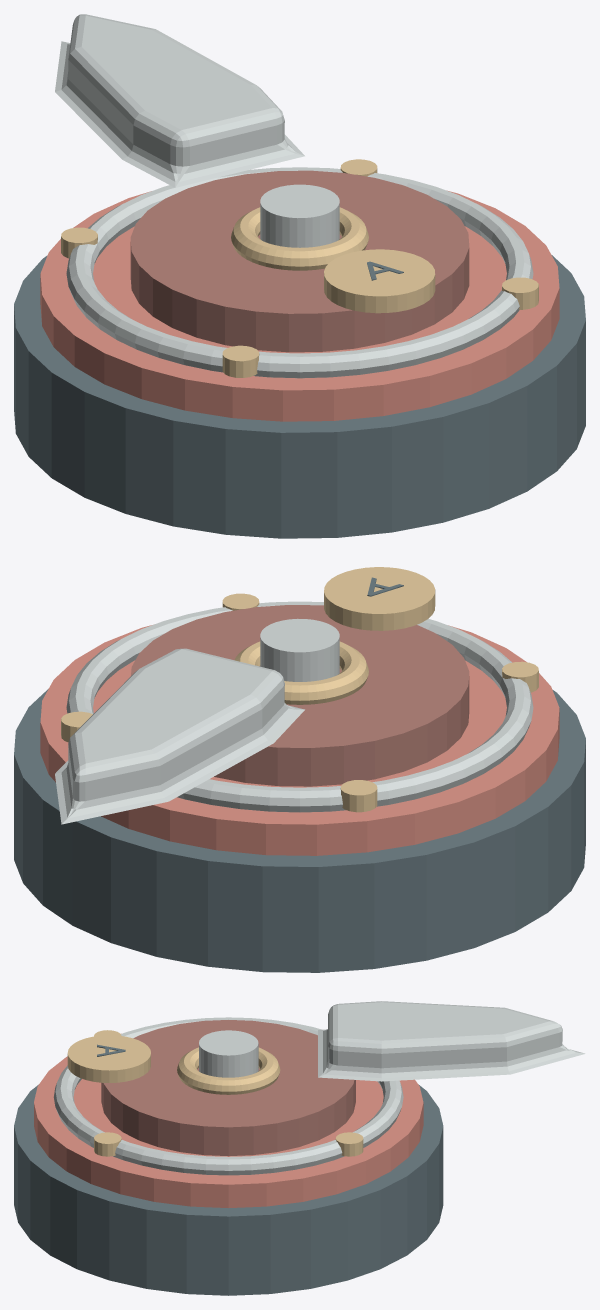
Rendered from diverter_module.fbx.
3 views of the same model, one above another, from view 1: azimuth 30°, elevation 25°; view 2: azimuth 150°, elevation 25°; view 3: azimuth 270°, elevation 25° (orthographic). The views are drawn at different scales.
Visible parts, largest first — view 1: ASSET_DIVERTER_BaseFoot, ASSET_DIVERTER_RotatingPlate, ASSET_DIVERTER_BasePaint, ASSET_DIVERTER_RoutingArm, ASSET_DIVERTER_OuterRing, ASSET_DIVERTER_GroupBadge, ASSET_DIVERTER_PivotPin, ASSET_DIVERTER_PivotRing, ASSET_DIVERTER_Fastener_180, ASSET_DIVERTER_Fastener_270, ASSET_DIVERTER_Fastener_90; view 2: ASSET_DIVERTER_BaseFoot, ASSET_DIVERTER_BasePaint, ASSET_DIVERTER_RotatingPlate, ASSET_DIVERTER_RoutingArm, ASSET_DIVERTER_OuterRing, ASSET_DIVERTER_GroupBadge, ASSET_DIVERTER_PivotPin, ASSET_DIVERTER_PivotRing, ASSET_DIVERTER_Fastener_90, ASSET_DIVERTER_Fastener_180, ASSET_DIVERTER_Fastener_0, ASSET_DIVERTER_Fastener_270; view 3: ASSET_DIVERTER_BaseFoot, ASSET_DIVERTER_RotatingPlate, ASSET_DIVERTER_BasePaint, ASSET_DIVERTER_RoutingArm, ASSET_DIVERTER_OuterRing, ASSET_DIVERTER_GroupBadge, ASSET_DIVERTER_PivotPin, ASSET_DIVERTER_PivotRing, ASSET_DIVERTER_Fastener_0, ASSET_DIVERTER_Fastener_270.
Part boxes in pixels (left/top/right/bottom): ASSET_DIVERTER_BaseFoot: left=14, top=255, right=585, bottom=538; ASSET_DIVERTER_RotatingPlate: left=130, top=170, right=469, bottom=352; ASSET_DIVERTER_BasePaint: left=40, top=190, right=559, bottom=421; ASSET_DIVERTER_RoutingArm: left=55, top=14, right=304, bottom=187; ASSET_DIVERTER_OuterRing: left=66, top=167, right=533, bottom=378; ASSET_DIVERTER_GroupBadge: left=324, top=249, right=435, bottom=313; ASSET_DIVERTER_PivotPin: left=260, top=184, right=339, bottom=247; ASSET_DIVERTER_PivotRing: left=231, top=207, right=368, bottom=270; ASSET_DIVERTER_Fastener_180: left=222, top=345, right=259, bottom=377; ASSET_DIVERTER_Fastener_270: left=502, top=277, right=538, bottom=309; ASSET_DIVERTER_Fastener_90: left=61, top=227, right=97, bottom=258; ASSET_DIVERTER_BaseFoot: left=14, top=688, right=585, bottom=972; ASSET_DIVERTER_BasePaint: left=40, top=625, right=559, bottom=855; ASSET_DIVERTER_RotatingPlate: left=131, top=605, right=469, bottom=786; ASSET_DIVERTER_RoutingArm: left=55, top=648, right=304, bottom=824; ASSET_DIVERTER_OuterRing: left=66, top=601, right=533, bottom=812; ASSET_DIVERTER_GroupBadge: left=324, top=567, right=435, bottom=630; ASSET_DIVERTER_PivotPin: left=260, top=618, right=339, bottom=681; ASSET_DIVERTER_PivotRing: left=234, top=641, right=368, bottom=704; ASSET_DIVERTER_Fastener_90: left=340, top=780, right=377, bottom=812; ASSET_DIVERTER_Fastener_180: left=502, top=661, right=538, bottom=692; ASSET_DIVERTER_Fastener_0: left=61, top=711, right=92, bottom=742; ASSET_DIVERTER_Fastener_270: left=222, top=593, right=259, bottom=610; ASSET_DIVERTER_BaseFoot: left=14, top=1084, right=443, bottom=1295; ASSET_DIVERTER_RotatingPlate: left=101, top=1020, right=355, bottom=1156; ASSET_DIVERTER_BasePaint: left=34, top=1033, right=423, bottom=1208; ASSET_DIVERTER_RoutingArm: left=318, top=1001, right=585, bottom=1081; ASSET_DIVERTER_OuterRing: left=53, top=1017, right=403, bottom=1175; ASSET_DIVERTER_GroupBadge: left=67, top=1035, right=150, bottom=1082; ASSET_DIVERTER_PivotPin: left=199, top=1030, right=258, bottom=1077; ASSET_DIVERTER_PivotRing: left=177, top=1047, right=280, bottom=1094; ASSET_DIVERTER_Fastener_0: left=335, top=1132, right=363, bottom=1156; ASSET_DIVERTER_Fastener_270: left=94, top=1132, right=121, bottom=1156.
Size of the model in its own units: 108 by 51 by 144.
